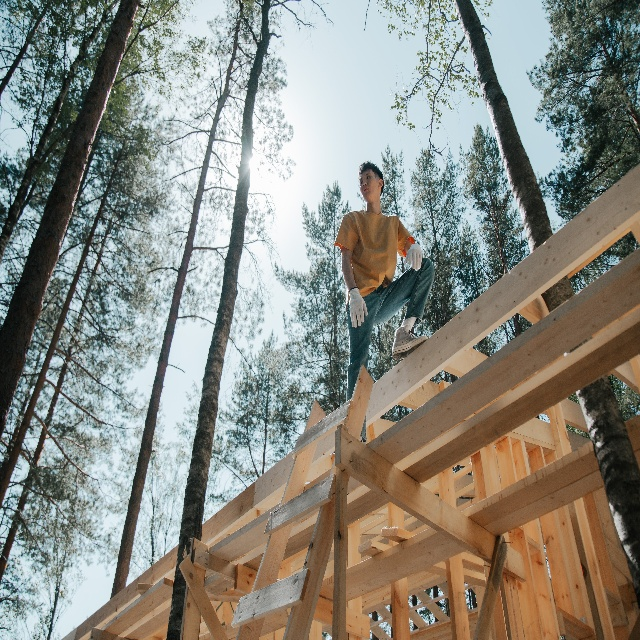Guantes: (349, 286, 368, 328), (403, 243, 422, 271)
